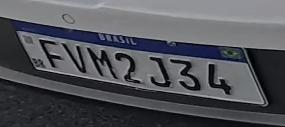Placa_mercosul_carro: (13, 21, 269, 107)
